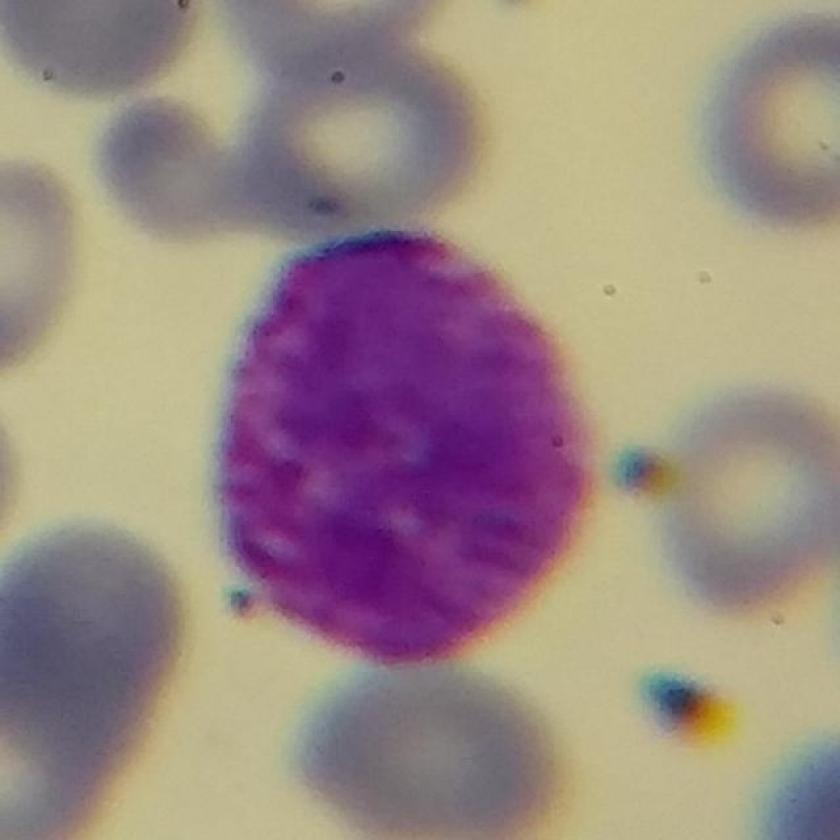basophil: (215, 214, 603, 669)
